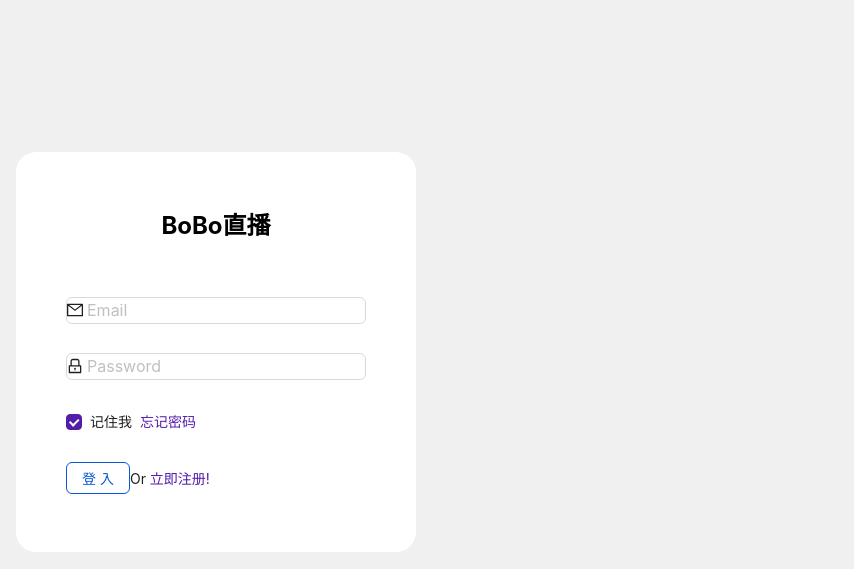
Test: 用户登录注册流程 › 登录密码错误
This screenshot has width=854, height=569.
Type "test@test.com" into the field with placeholder "Email".
click(226, 311); type("test@test.com")  # box [87, 298, 365, 323]
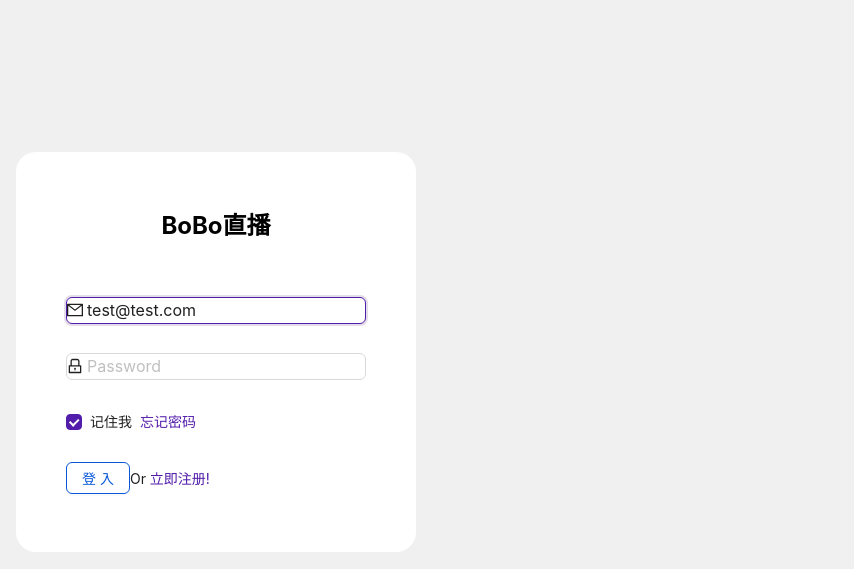
Type "11" into the password field with placeholder "Password".
click(226, 367); type("11")  # box [87, 354, 365, 379]
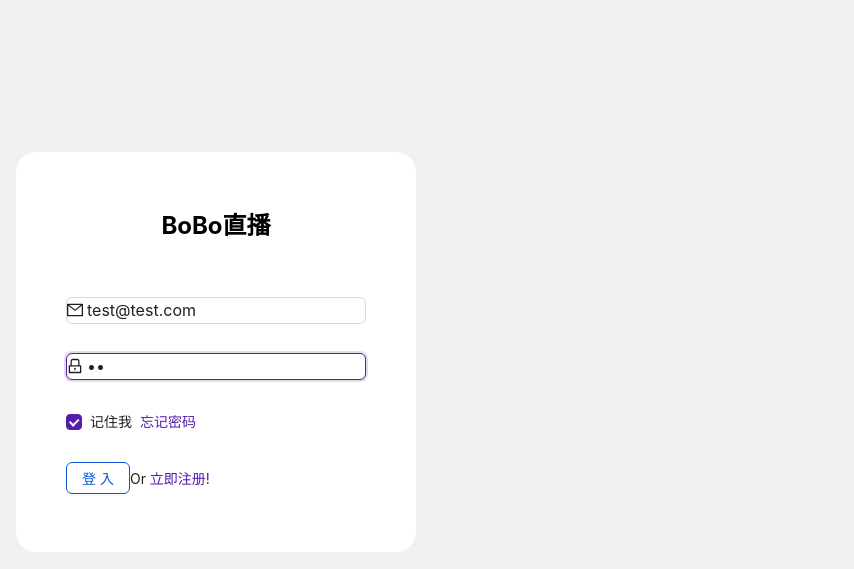
Click the button "登 入".
click(98, 478)  # box [66, 462, 130, 494]
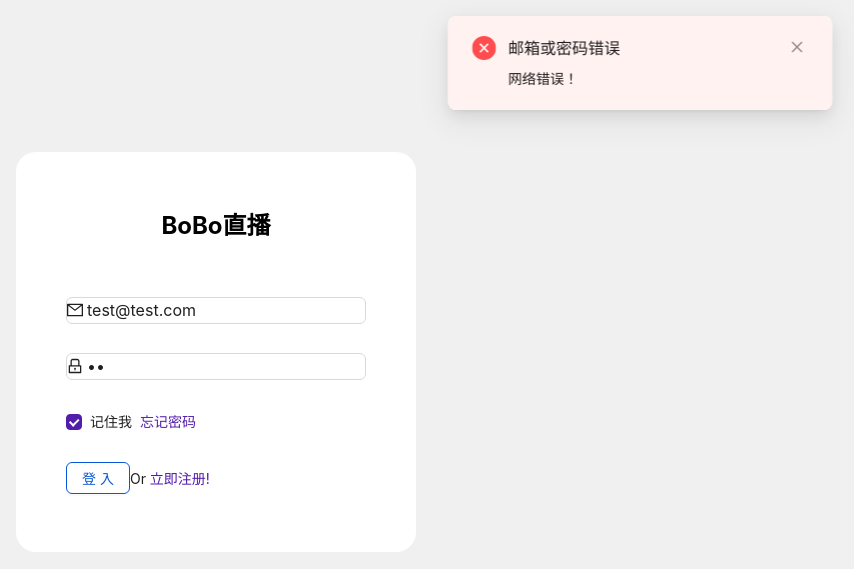
expect the text "邮箱或密码错误" is shown: met, box [508, 38, 620, 58]
